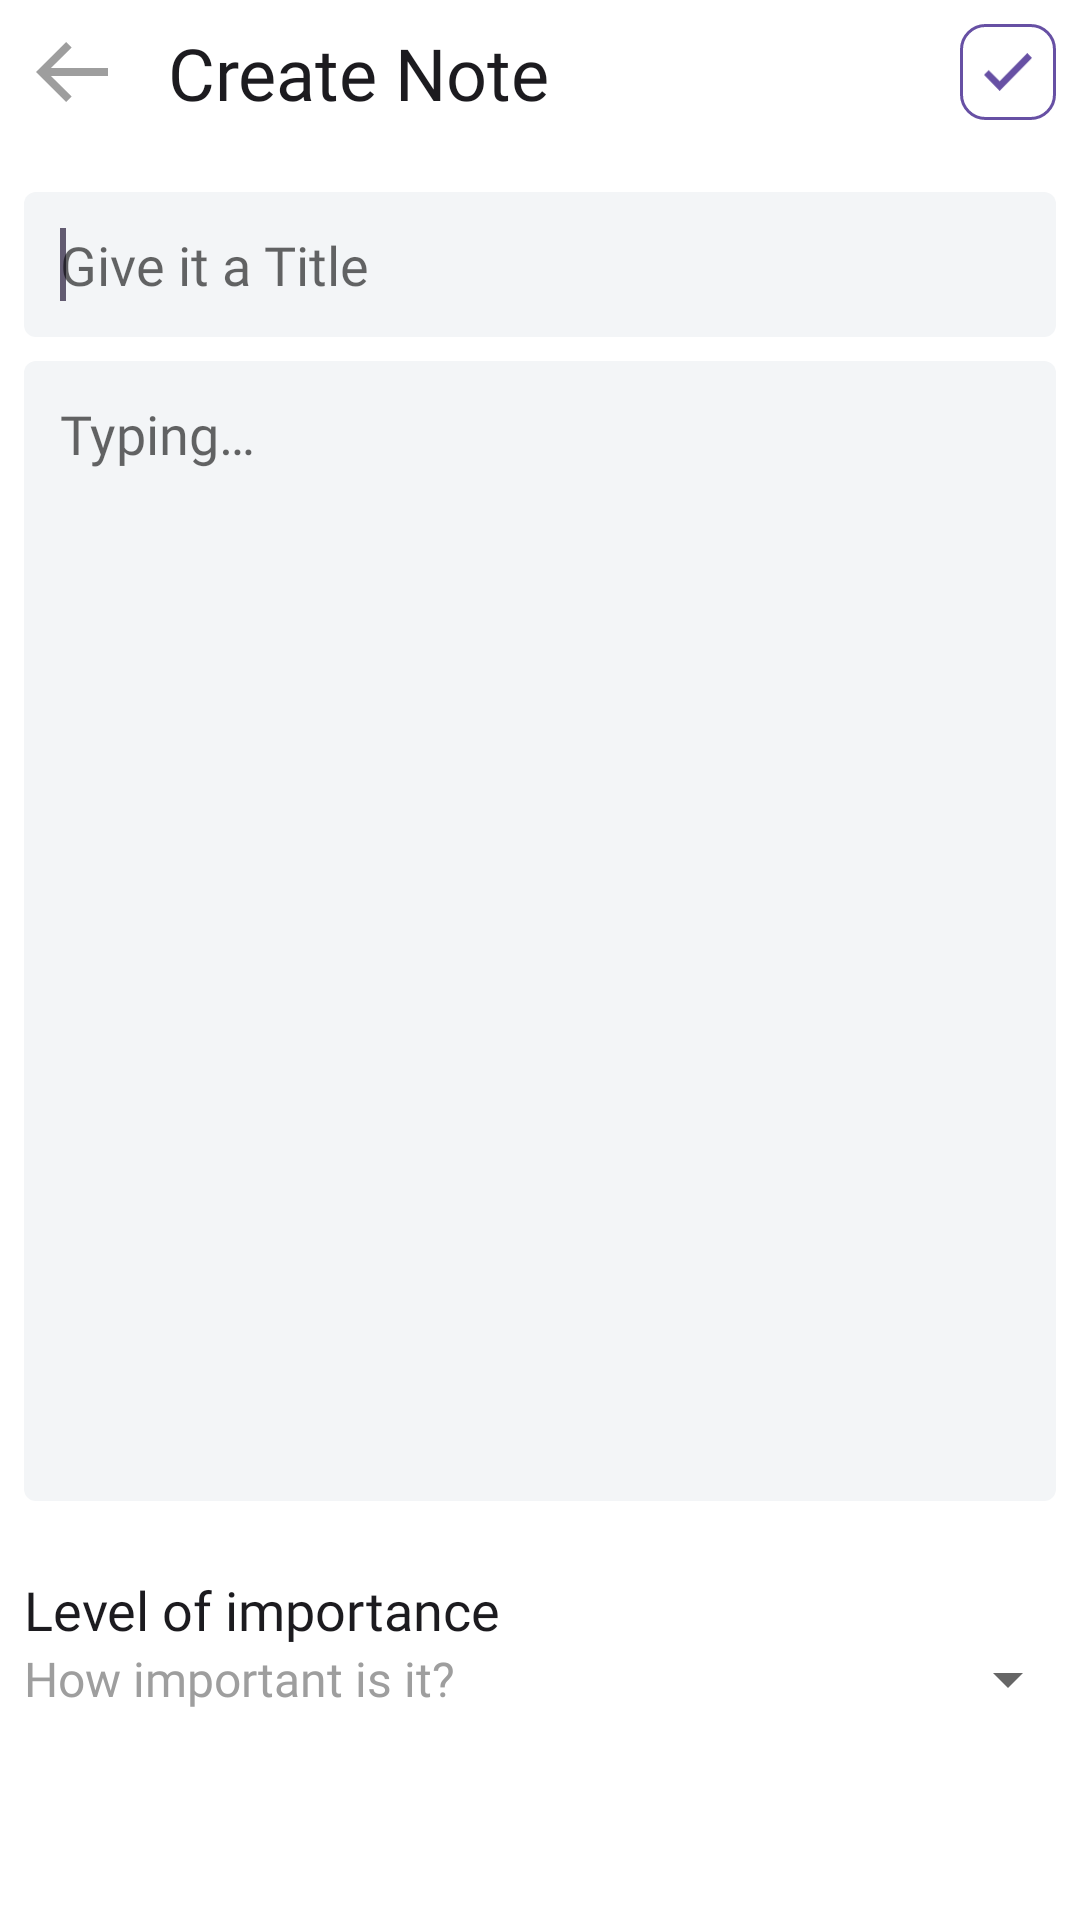

Point at icon controls on the screen. Image size 1080px×1920px, points as [x,y].
Go Back button: [72,72]
